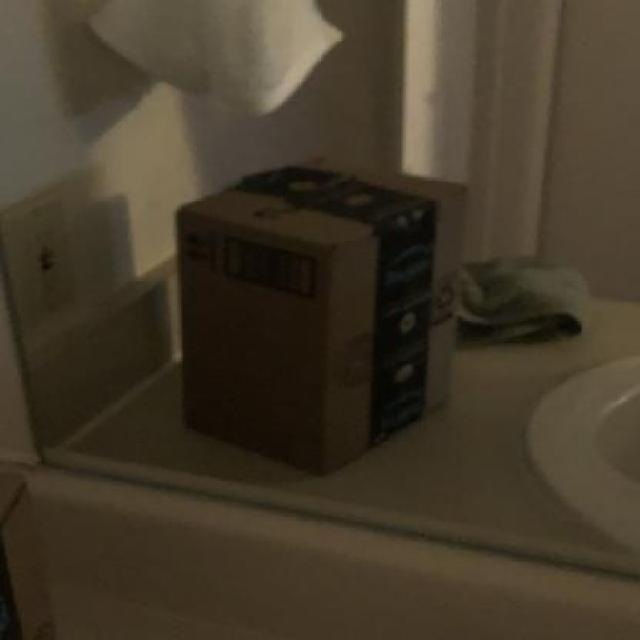cardboxes: (174, 160, 460, 478)
